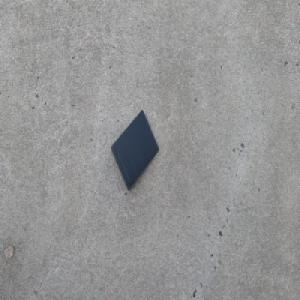PlasticPart: (110, 109, 159, 191)
